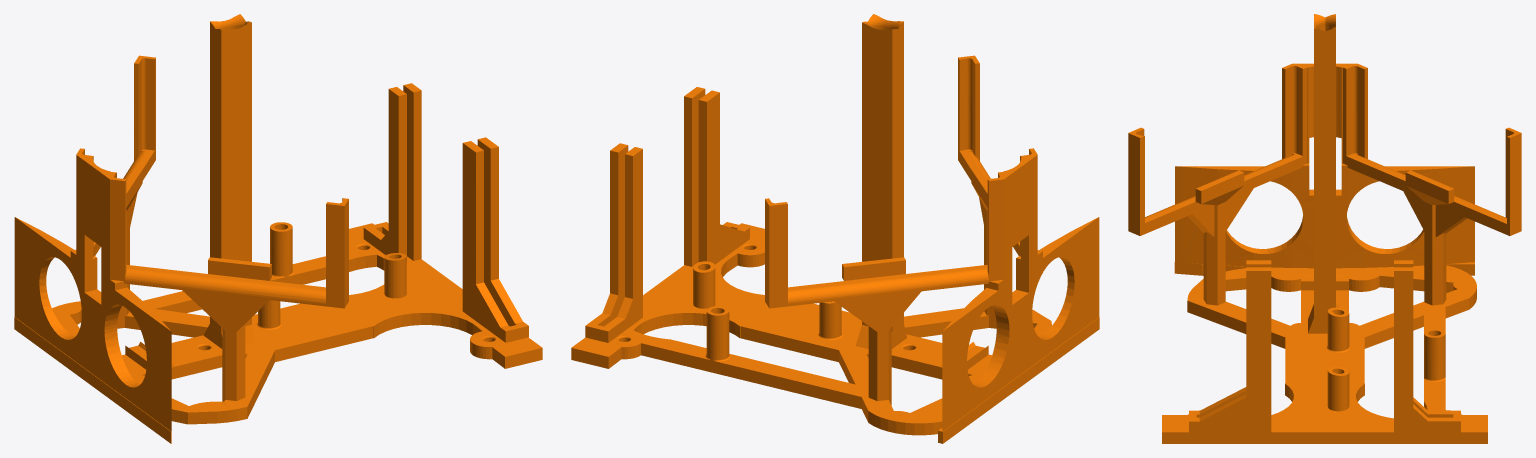
File: robot-arena--housing.glb
3 renders of one model, left to right at view 1: azimuth 30°, elevation 25°; view 2: azimuth 150°, elevation 25°; view 3: azimuth 270°, elevation 25°, orthographic. The views are drawn at different scales.
Visible parts, largest first — view 1: bodytry3-1; view 2: bodytry3-1; view 3: bodytry3-1.
Boxes of the visible parts, x1,y1,x2,y2 form: bodytry3-1: [14, 14, 542, 443]; bodytry3-1: [571, 14, 1099, 443]; bodytry3-1: [1128, 14, 1521, 443].
Bounding box in the file's own units: 0.0839 × 0.0726 × 0.0818.
